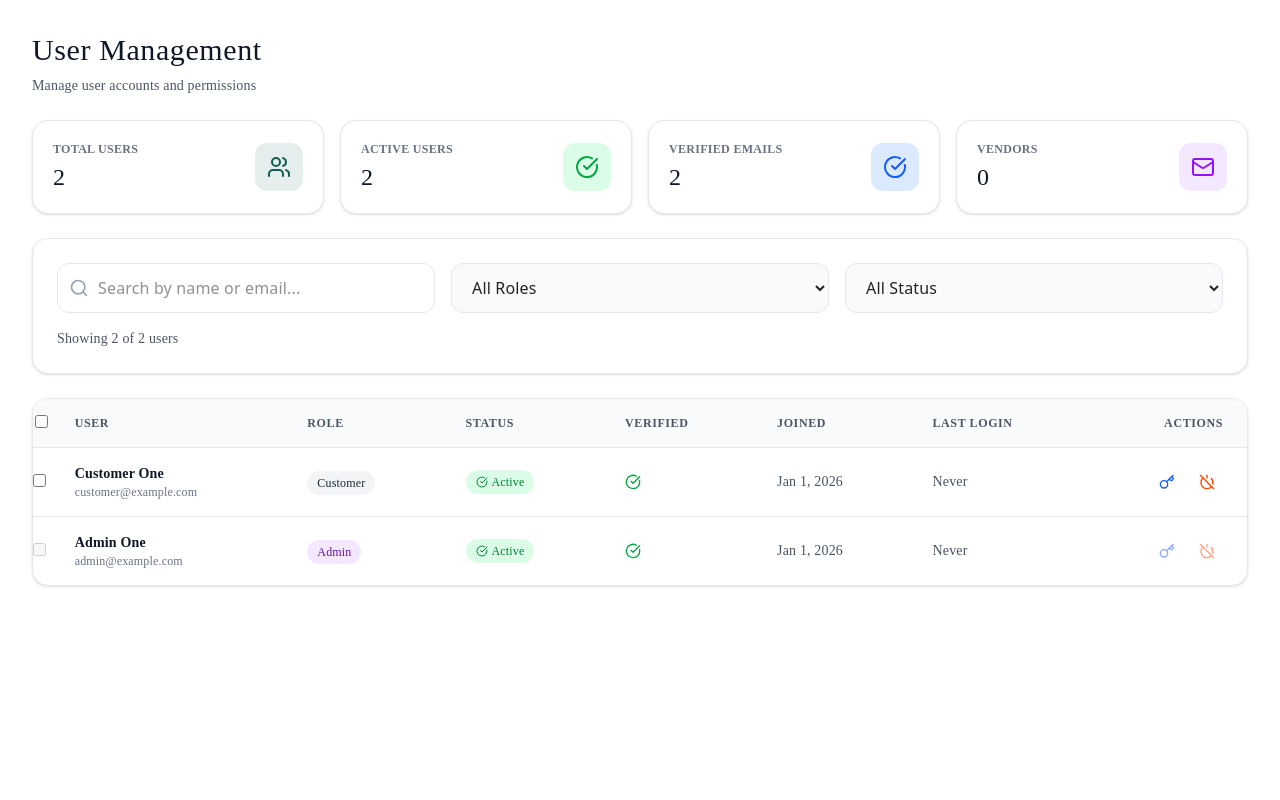
keeps the selection and shows an accessible error when bulk deactivation fails
The image size is (1280, 800).
Expected: the text "Customer One" is shown, [75,466,164,481]
Click the checkbox named "Select customer@example.com" at (40, 480), box [33,474,46,487]
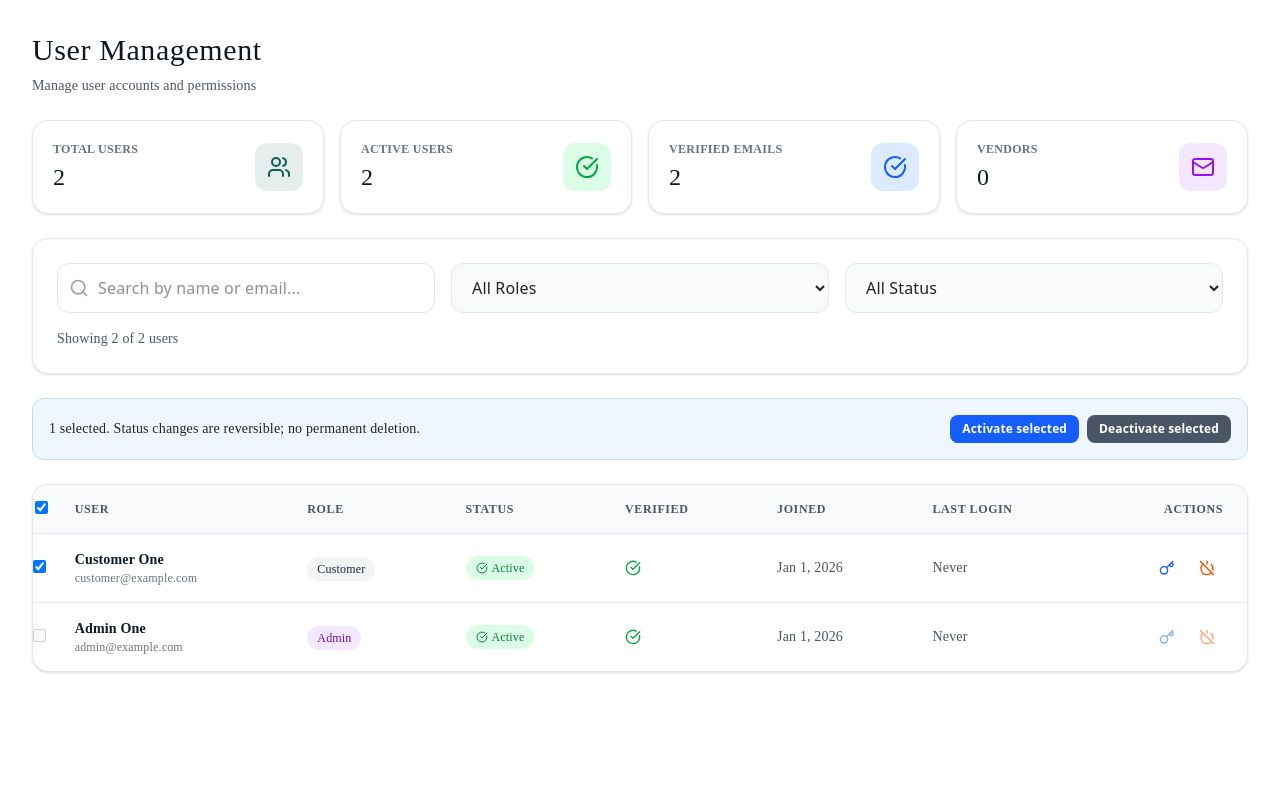
Expected: the checkbox named "Select admin@example.com" is disabled, [33,629,46,642]
Click the button "Deactivate selected" at (1159, 429), box [1087,415,1231,443]
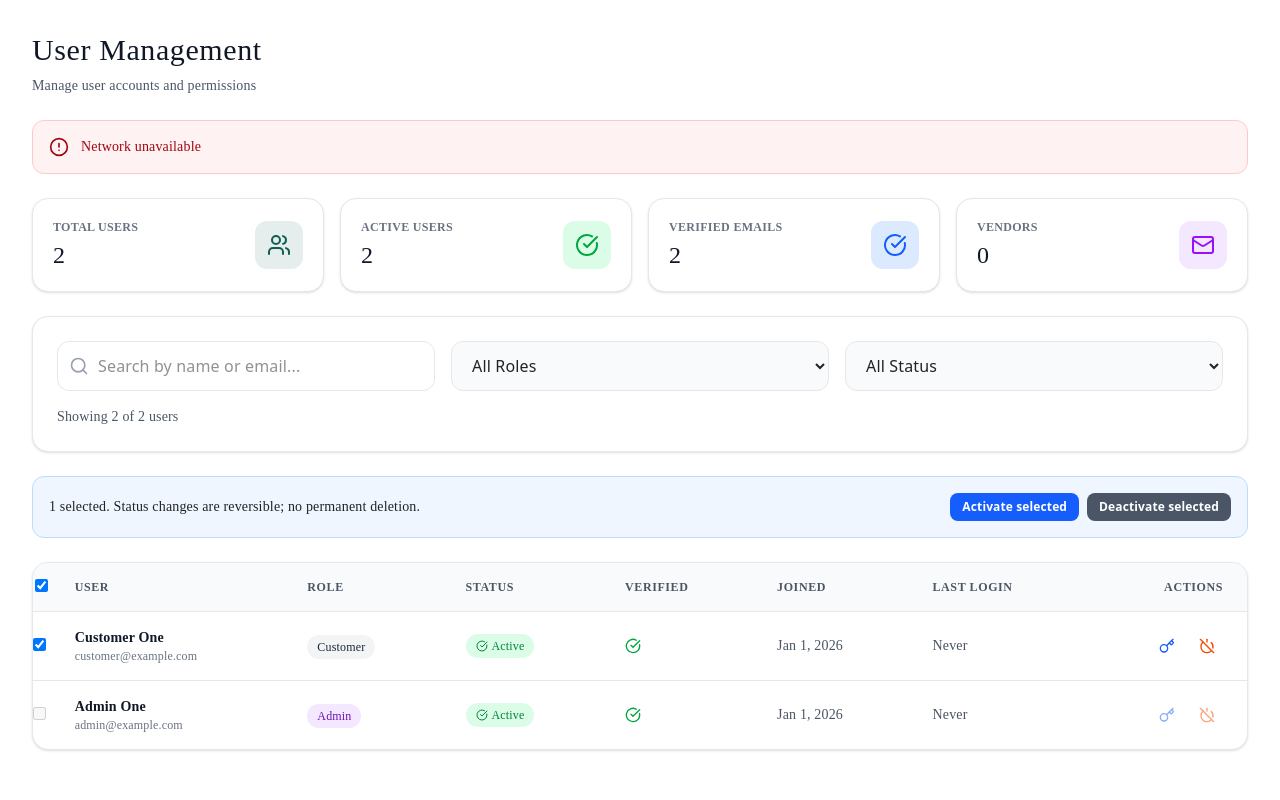
Expected: the checkbox named "Select customer@example.com" is checked, [33,638,46,651]
Expected: the message reads "Network unavailable", [81,139,201,154]
